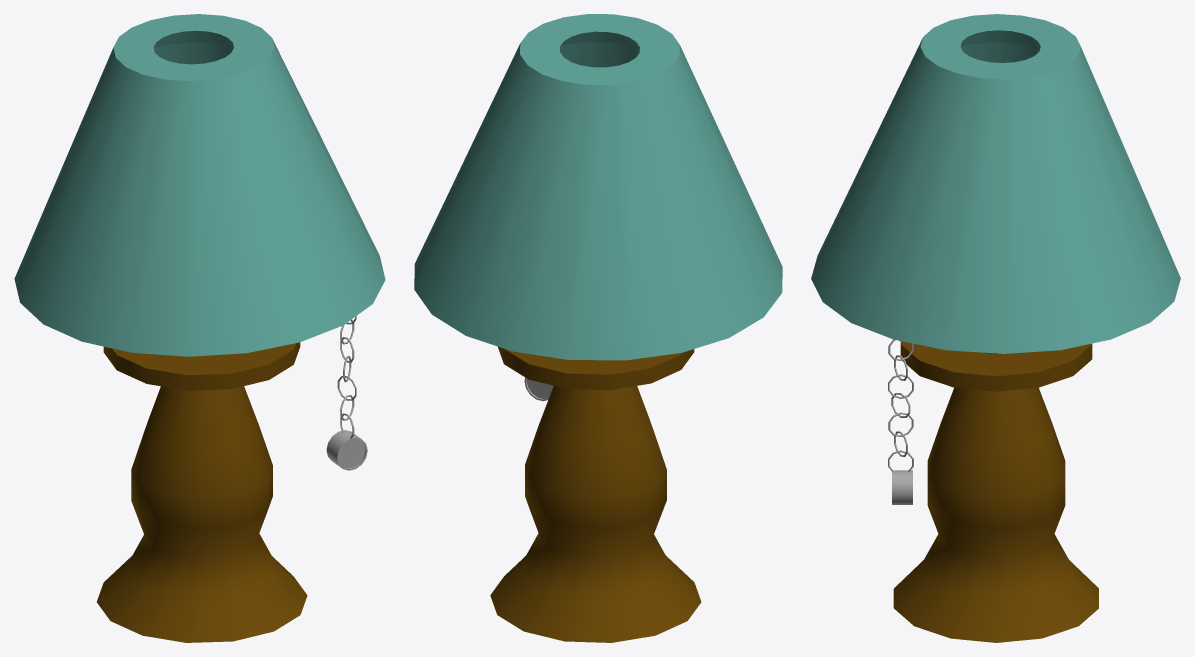
The model's file is Lamparita.fbx.
3 renders of one model, left to right at view 1: azimuth 30°, elevation 25°; view 2: azimuth 150°, elevation 25°; view 3: azimuth 270°, elevation 25°, orthographic.
Parts seen in each view (by area): view 1: polySurface1, polySurface2, pTorus9; view 2: polySurface1, polySurface2; view 3: polySurface1, polySurface2, pTorus9.
Boxes of the visible parts, box(x1,y1,x2,y2) form: polySurface1: box(14, 14, 385, 356); polySurface2: box(97, 342, 307, 642); pTorus9: box(326, 316, 367, 470); polySurface1: box(414, 14, 782, 360); polySurface2: box(490, 346, 701, 642); polySurface1: box(811, 14, 1180, 353); polySurface2: box(893, 341, 1098, 642); pTorus9: box(888, 339, 913, 504).
Bounding box in the file's own units: 21.86 × 35.91 × 21.86.
